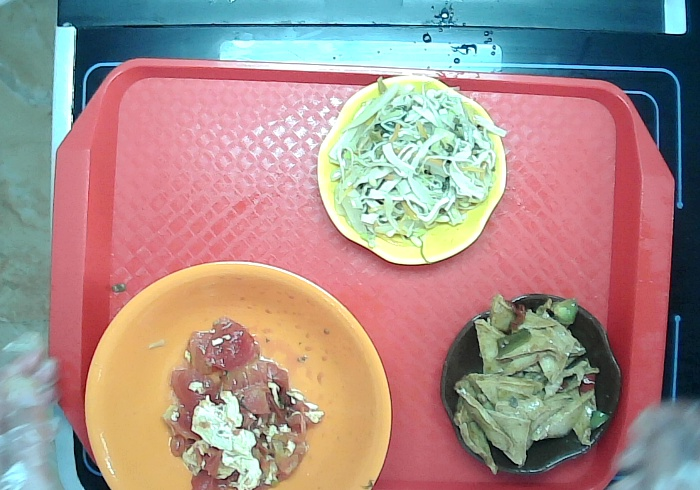YKMZ-Huang_Se_Ao_Bian_Wan: (317, 71, 517, 268)
YKMZ-Ju_Se_Tang_Wan: (79, 262, 397, 490)
YKMZ-Ka_Fei_Ao_Bian_Wan: (435, 291, 622, 484)
